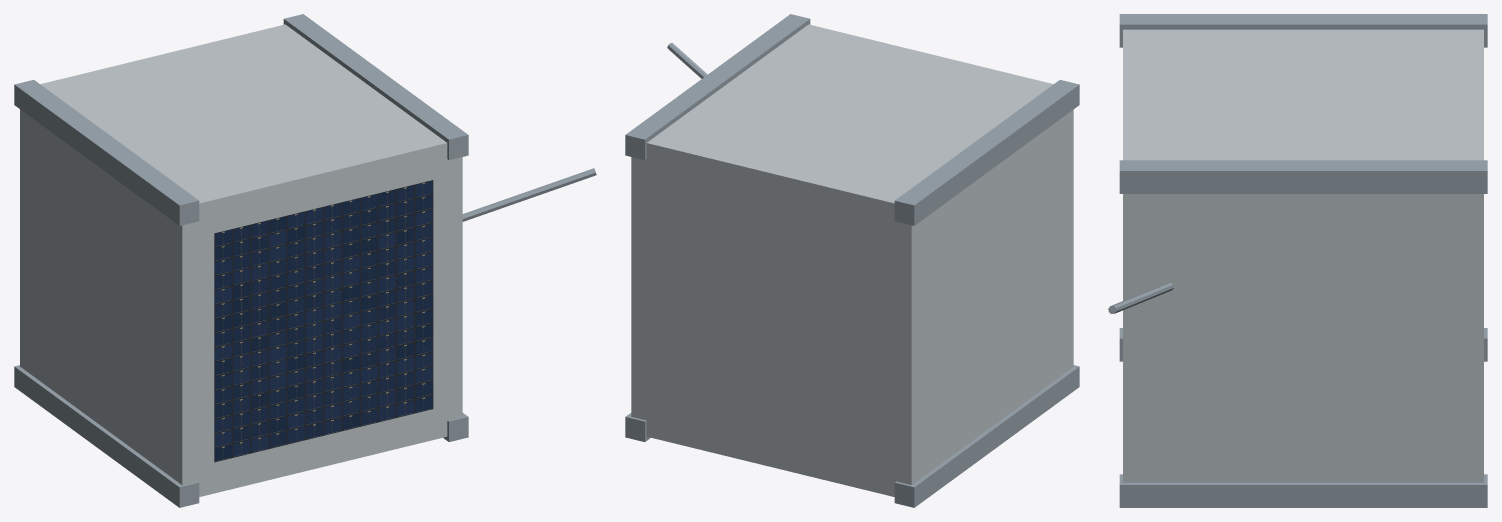
File: ref-cubesat-1u-31122.glb
3 renders of one model, left to right at view 1: azimuth 30°, elevation 25°; view 2: azimuth 150°, elevation 25°; view 3: azimuth 270°, elevation 25°, orthographic. The views are drawn at different scales.
Visible parts, largest first — view 1: Spacecraft body, Body-mounted cells, Dispenser rail (×3), Antenna boom; view 2: Spacecraft body, Dispenser rail (×4); view 3: Spacecraft body, Dispenser rail (×3), Antenna boom.
Boxes of the visible parts, x1,y1,x2,y2 form: Spacecraft body: [20, 24, 462, 496]; Body-mounted cells: [214, 180, 433, 462]; Dispenser rail (×3): [14, 14, 468, 507]; Antenna boom: [462, 168, 596, 221]; Spacecraft body: [631, 24, 1073, 496]; Dispenser rail (×4): [625, 14, 1079, 507]; Spacecraft body: [1123, 29, 1483, 482]; Dispenser rail (×3): [1119, 14, 1487, 507]; Antenna boom: [1108, 282, 1173, 313].
Bounding box in the file's own units: 0.1475 × 0.103 × 0.1051.
3 materials, 1 textured.
